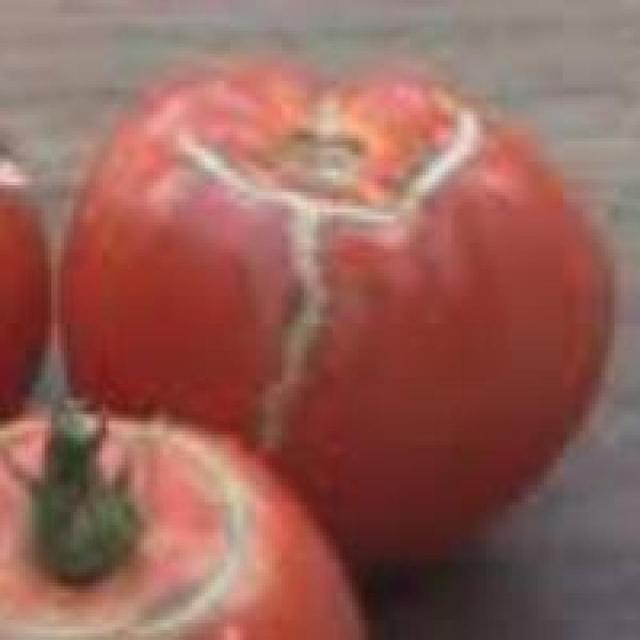Cracking Fruit: (88, 146, 233, 351)
